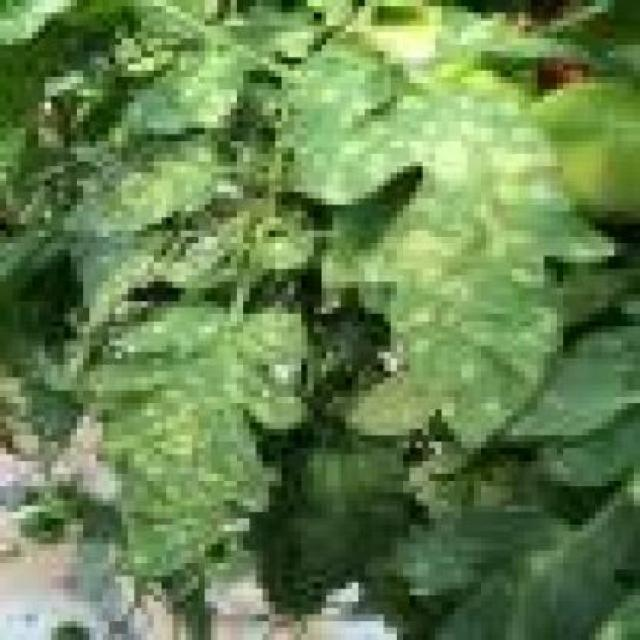Leaf Mold: (334, 84, 577, 449), (84, 302, 309, 583), (91, 142, 263, 237), (289, 53, 404, 154), (436, 1, 583, 66), (347, 354, 449, 443), (173, 46, 244, 135), (256, 232, 321, 276), (161, 250, 226, 289)
